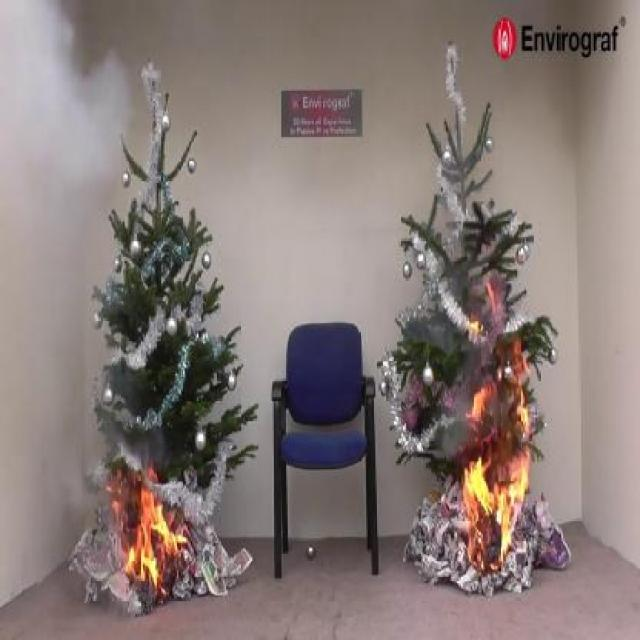fire: (452, 344, 530, 562), (106, 474, 192, 588)
smoke: (8, 15, 130, 423)
